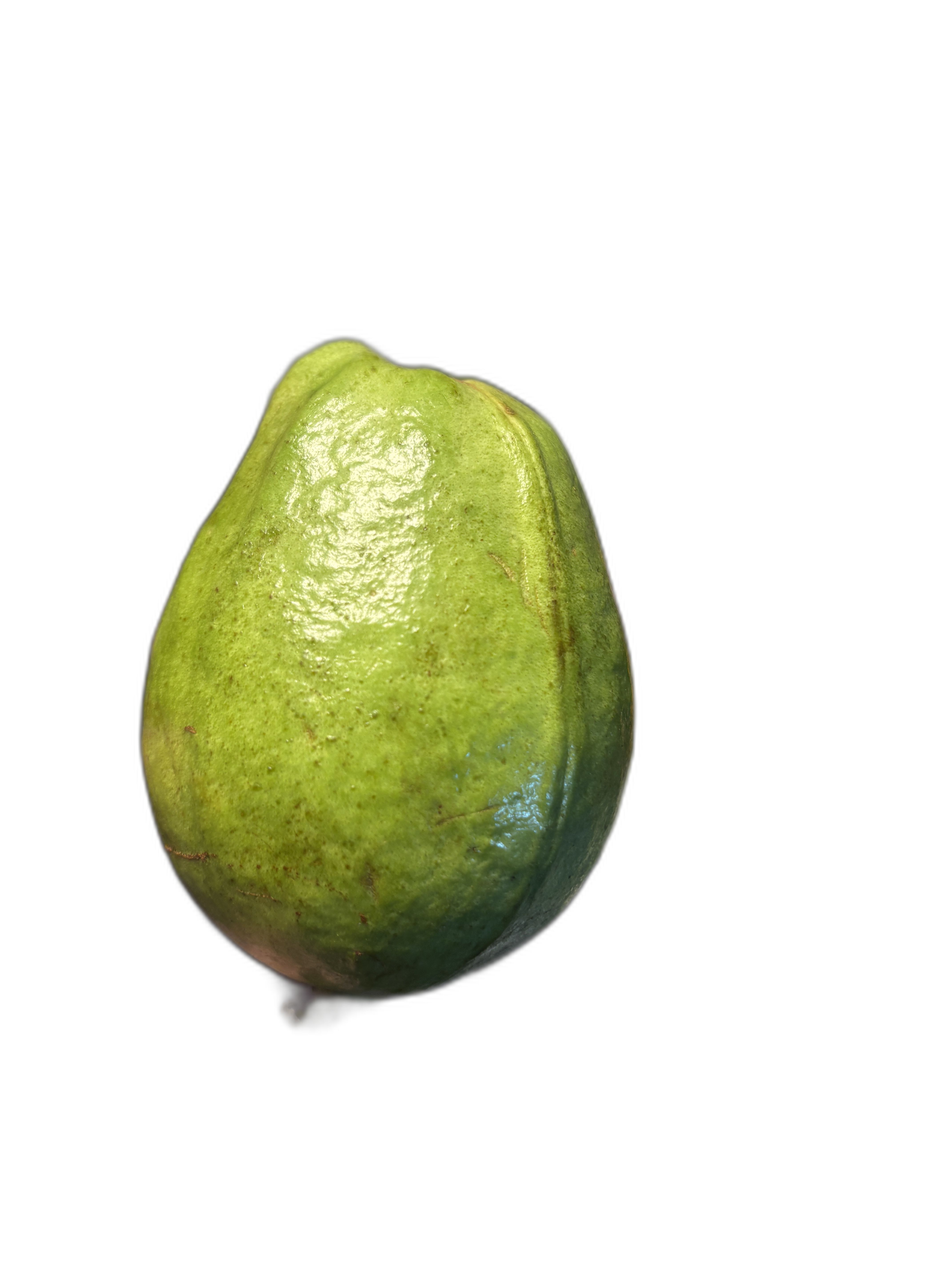guava: (83, 150, 710, 1217)
